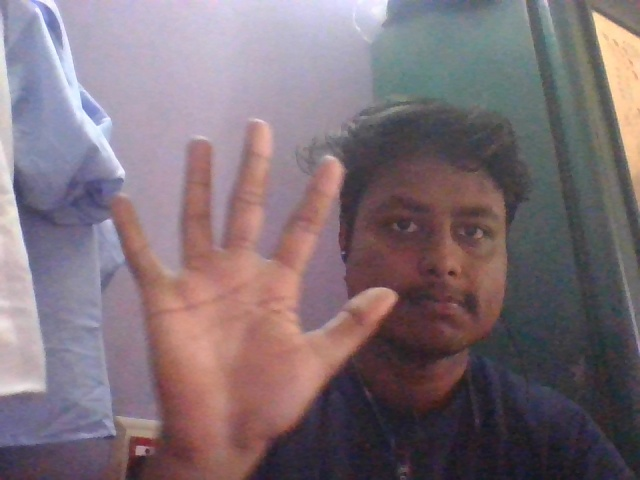hello: (101, 111, 408, 480)
